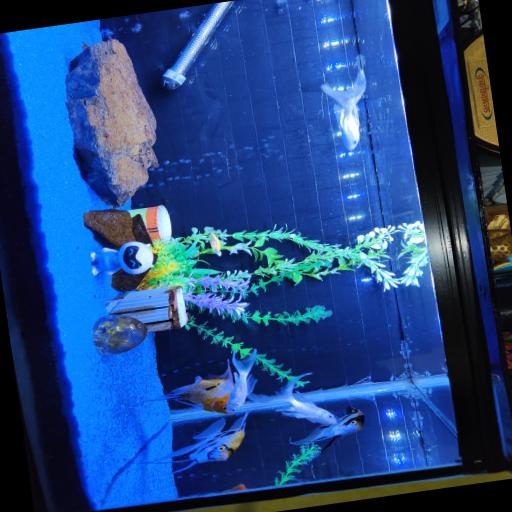Fish: (148, 411, 247, 472), (141, 360, 233, 413), (247, 373, 336, 424), (320, 67, 365, 149), (290, 406, 363, 451), (225, 348, 256, 412), (209, 232, 220, 255), (222, 483, 245, 491)
